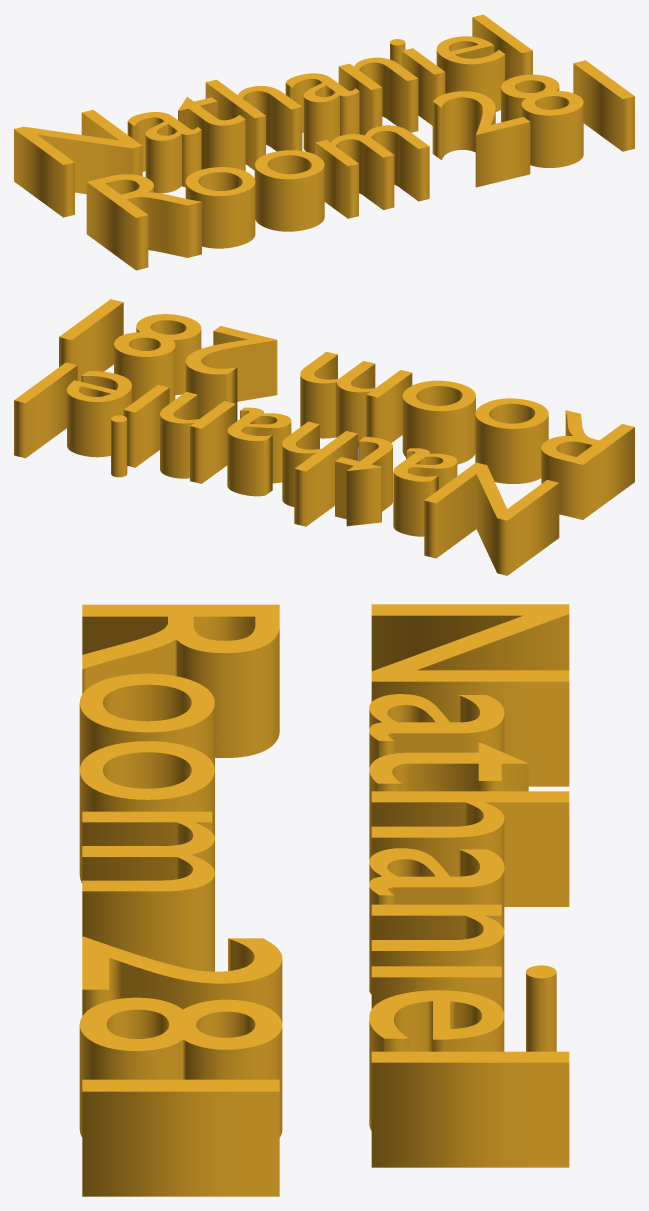
Rendered from nathaniel-281.gltf.
3 views of the same model, one above another, from view 1: azimuth 30°, elevation 25°; view 2: azimuth 150°, elevation 25°; view 3: azimuth 270°, elevation 25° (orthographic). The views are drawn at different scales.
Parts seen in each view (by area): view 1: Text; view 2: Text; view 3: Text.
Boxes of the visible parts, left/top/right/bottom form: Text: left=14, top=14, right=634, bottom=270; Text: left=14, top=299, right=634, bottom=575; Text: left=79, top=604, right=569, bottom=1196.
Size of the model in its own units: 3.98 by 0.4 by 1.69.
